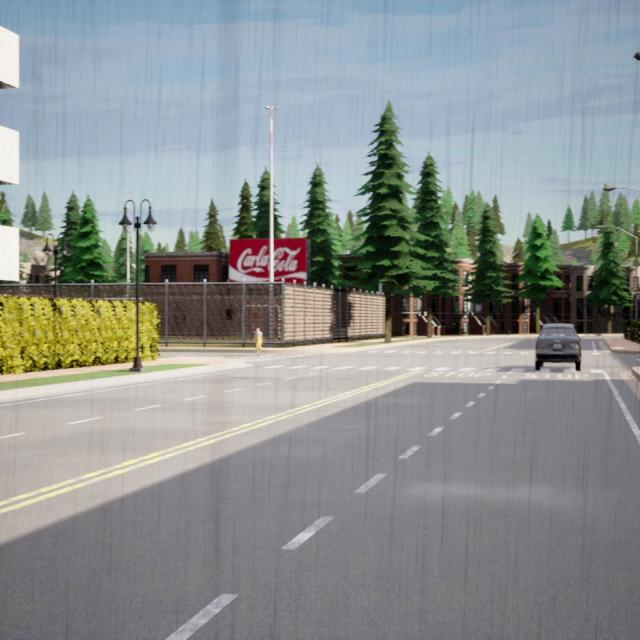Pedestrian: (255, 326, 262, 354)
Vehicle: (536, 323, 580, 370)
